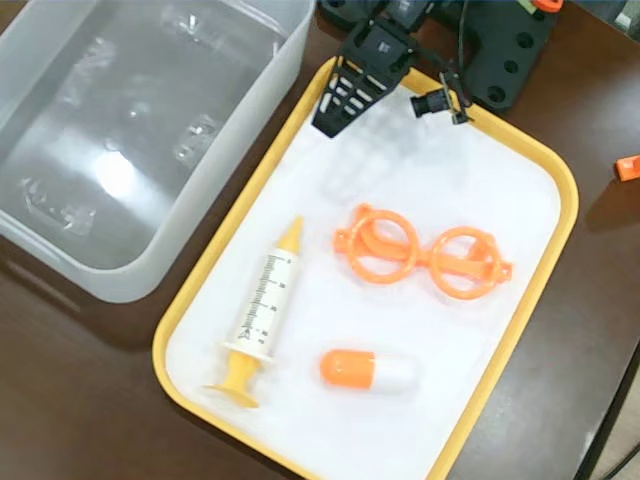pill: (319, 345, 418, 394)
syringe: (207, 211, 303, 406)
